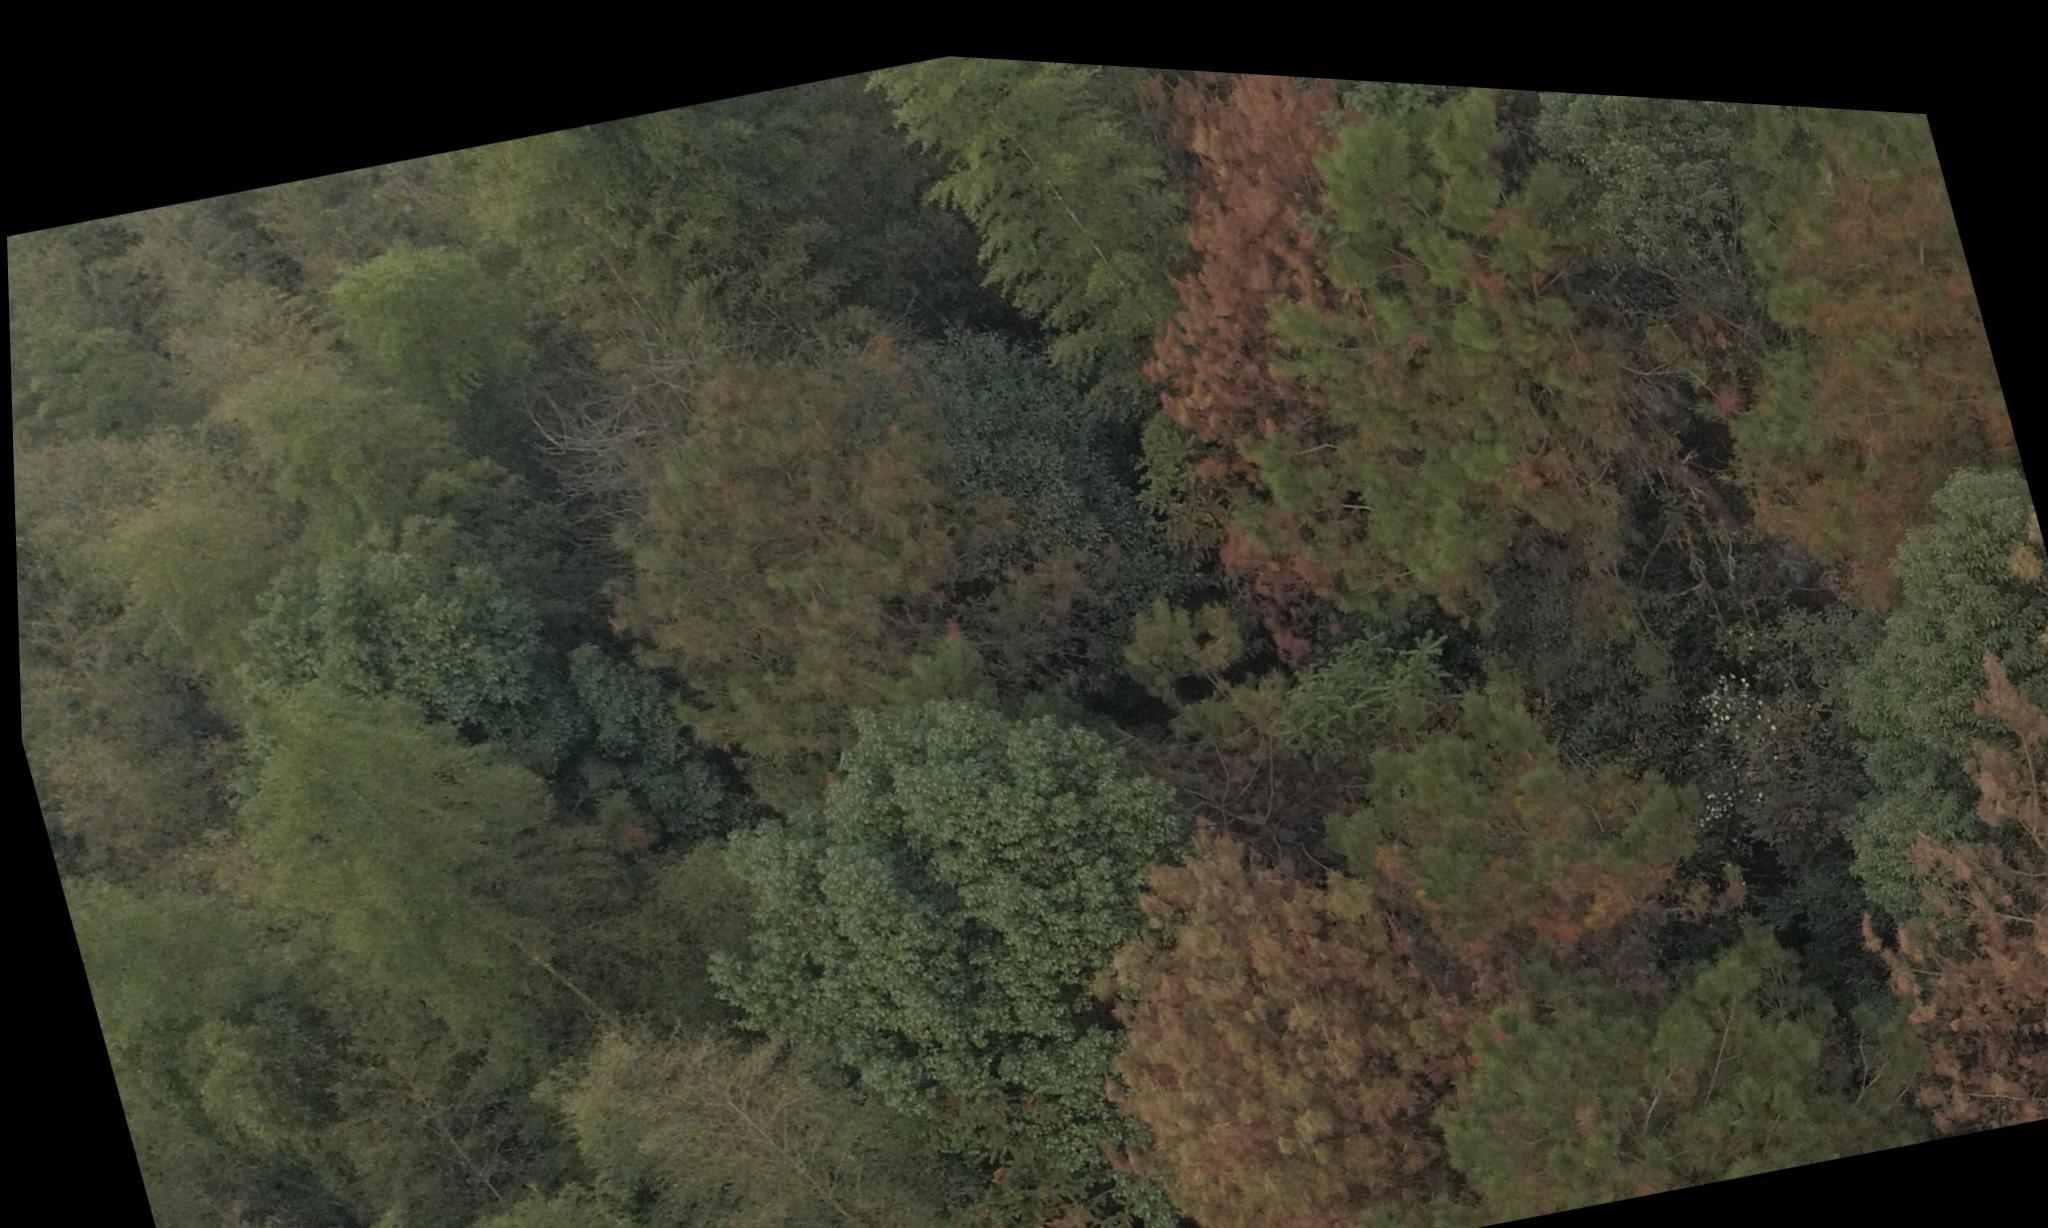heavy: (933, 44, 1557, 705), (943, 738, 1601, 1228), (1693, 554, 2048, 1148)
light: (509, 269, 1042, 841), (1595, 75, 2036, 601), (1300, 649, 1719, 993)
